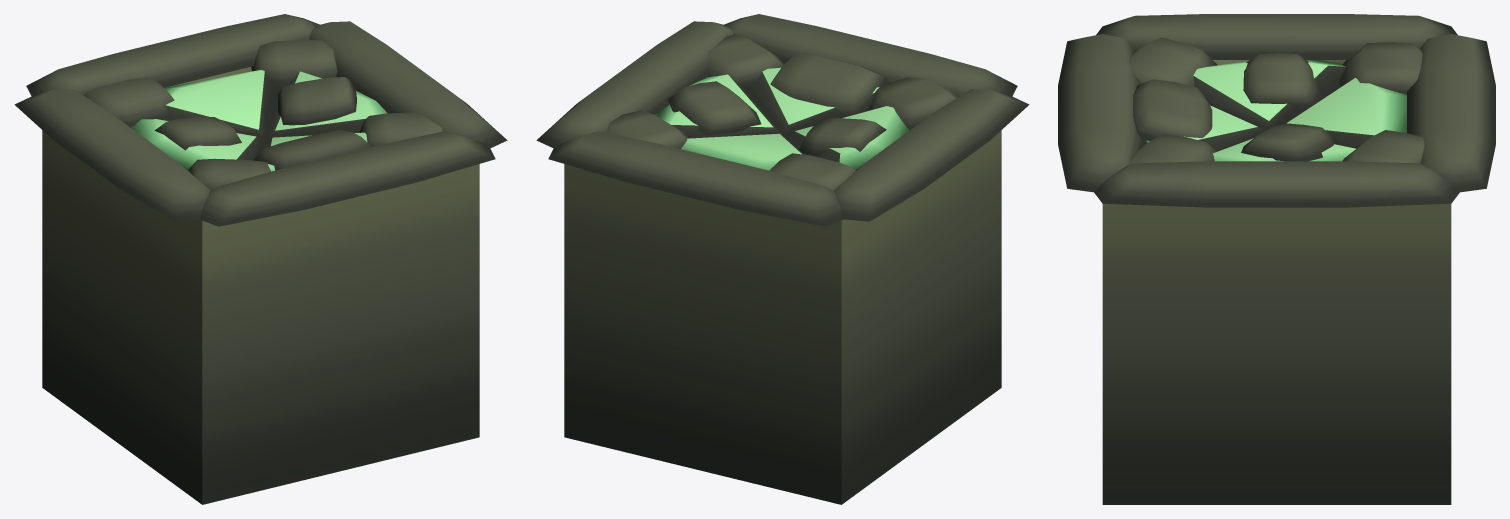
The model's file is tileBreakable2_mesh.fbx.
3 views of the same model, side by side, from view 1: azimuth 30°, elevation 25°; view 2: azimuth 150°, elevation 25°; view 3: azimuth 270°, elevation 25° (orthographic). The views are drawn at different scales.
Visible parts, largest first — view 1: tileBreakable2_mesh; view 2: tileBreakable2_mesh; view 3: tileBreakable2_mesh.
Part boxes in pixels (x1,y1,x2,y2): tileBreakable2_mesh: (14,14,507,504); tileBreakable2_mesh: (536,14,1029,504); tileBreakable2_mesh: (1058,14,1495,504).
Bounding box in the file's own units: 125 × 106 × 125.
